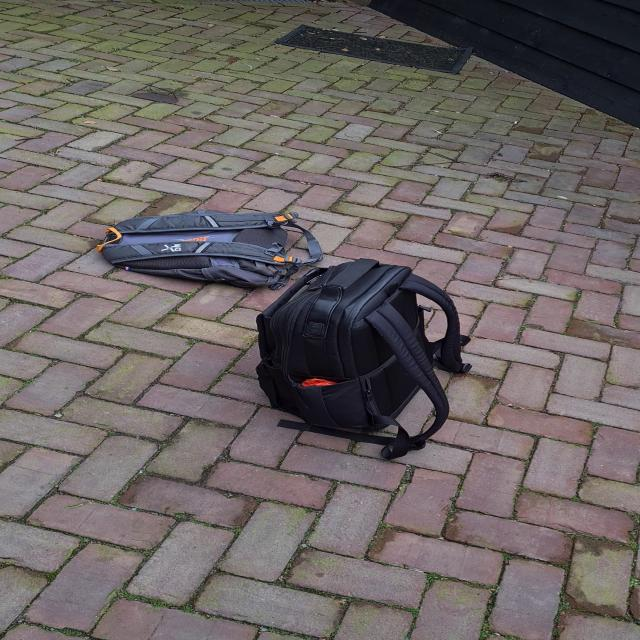backpack: (248, 254, 471, 458), (94, 207, 331, 292)
